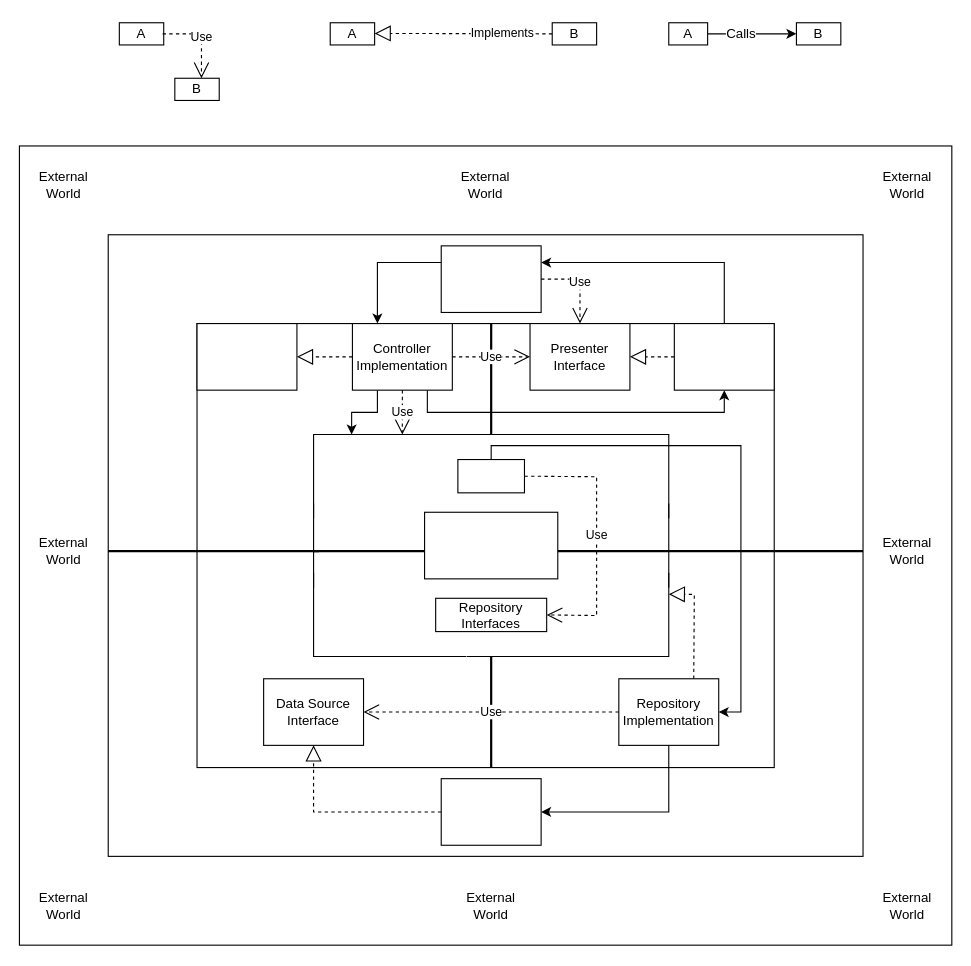
Image size: 971x966. Some labels were removed from this diagram. Here are the shapes that lost their labels. From the top down, the box of each, then its label:
(440, 245, 541, 312): UI
(196, 322, 297, 390): Controller Interface
(673, 322, 774, 390): Presenter Implementation
(457, 458, 524, 493): Use Cases
(423, 511, 558, 579): Entities Value Objects
(440, 778, 541, 845): Data Source Implementation
